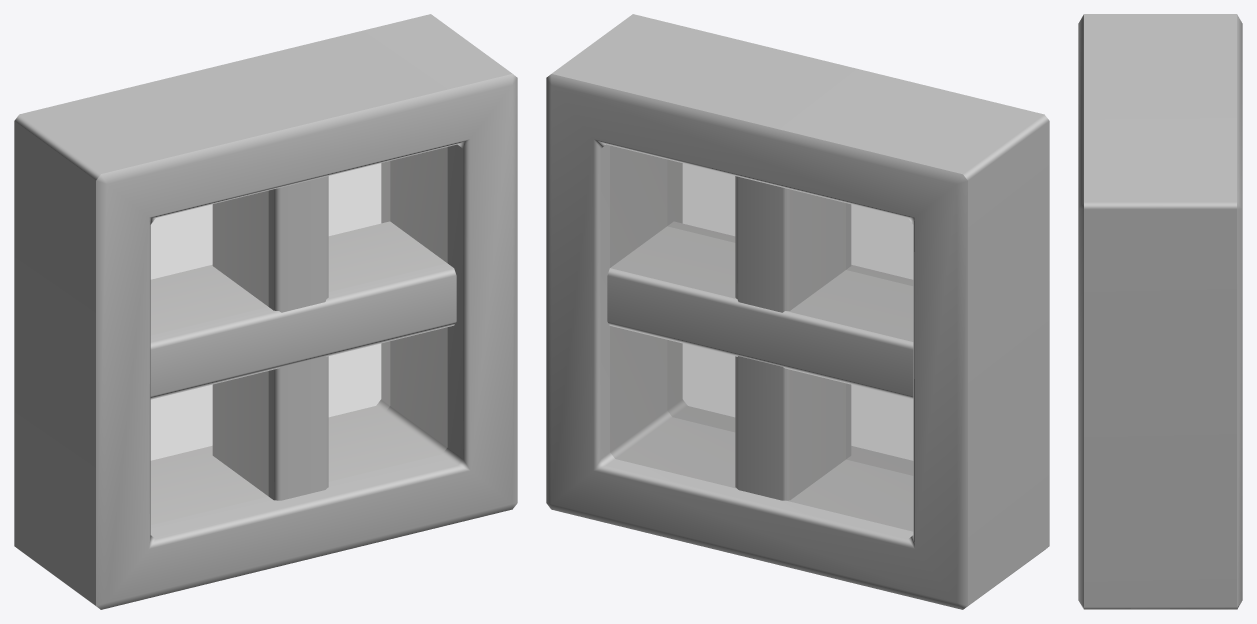
The model's file is Window_28.fbx.
3 renders of one model, left to right at view 1: azimuth 30°, elevation 25°; view 2: azimuth 150°, elevation 25°; view 3: azimuth 270°, elevation 25°, orthographic. The views are drawn at different scales.
Visible parts, largest first — view 1: Window_28; view 2: Window_28; view 3: Window_28.
Part boxes in pixels (<box>): Window_28: <box>14,14,517,609</box>; Window_28: <box>546,14,1049,609</box>; Window_28: <box>1078,14,1242,609</box>.
Size of the model in its own units: 156 by 154 by 55.95.
